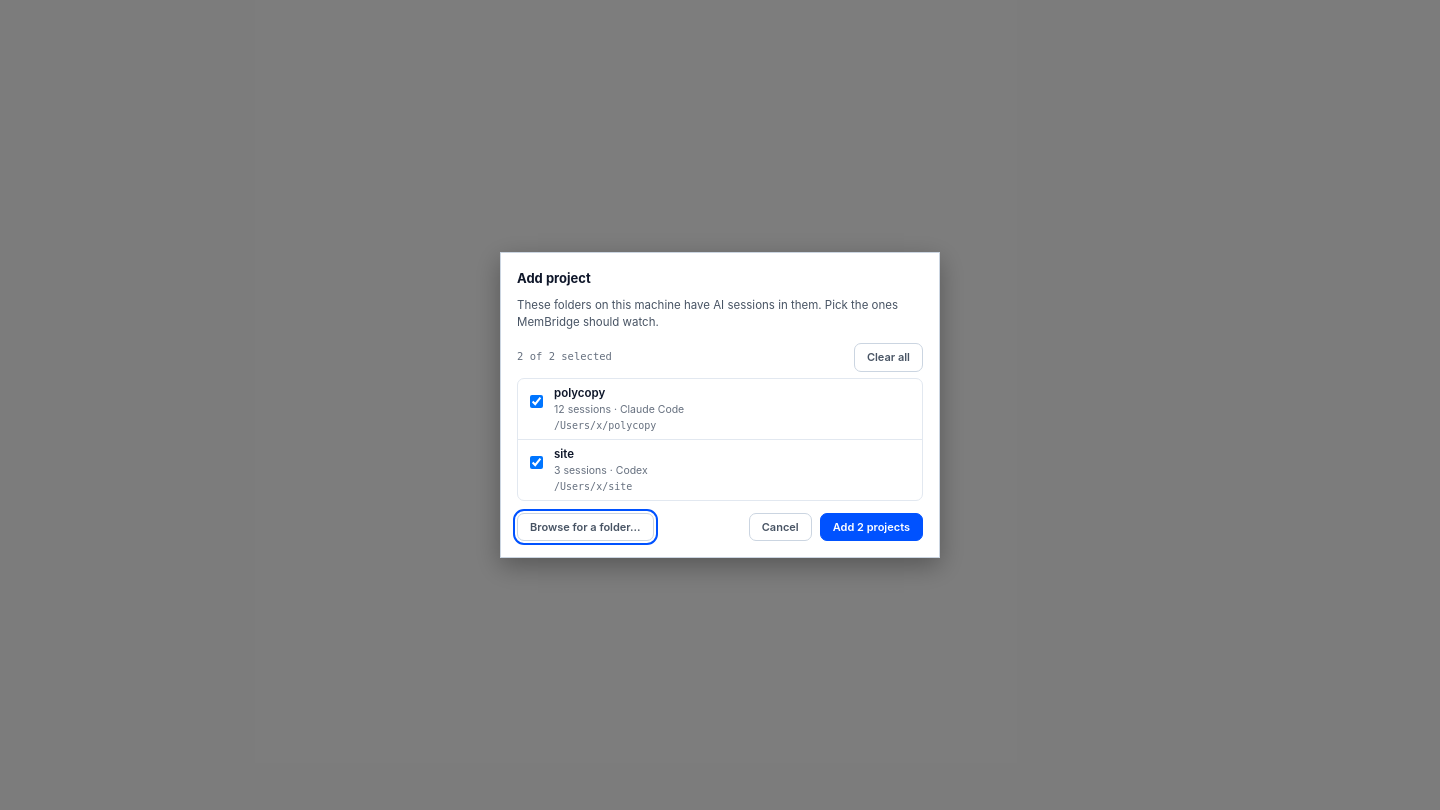
add project without ever typing a path › names the folders whose earlier memory was withheld so an empty block is explained
Click the button "Add 2 projects". click: [871, 527]
box: top-left (820, 512), bottom-right (923, 541)
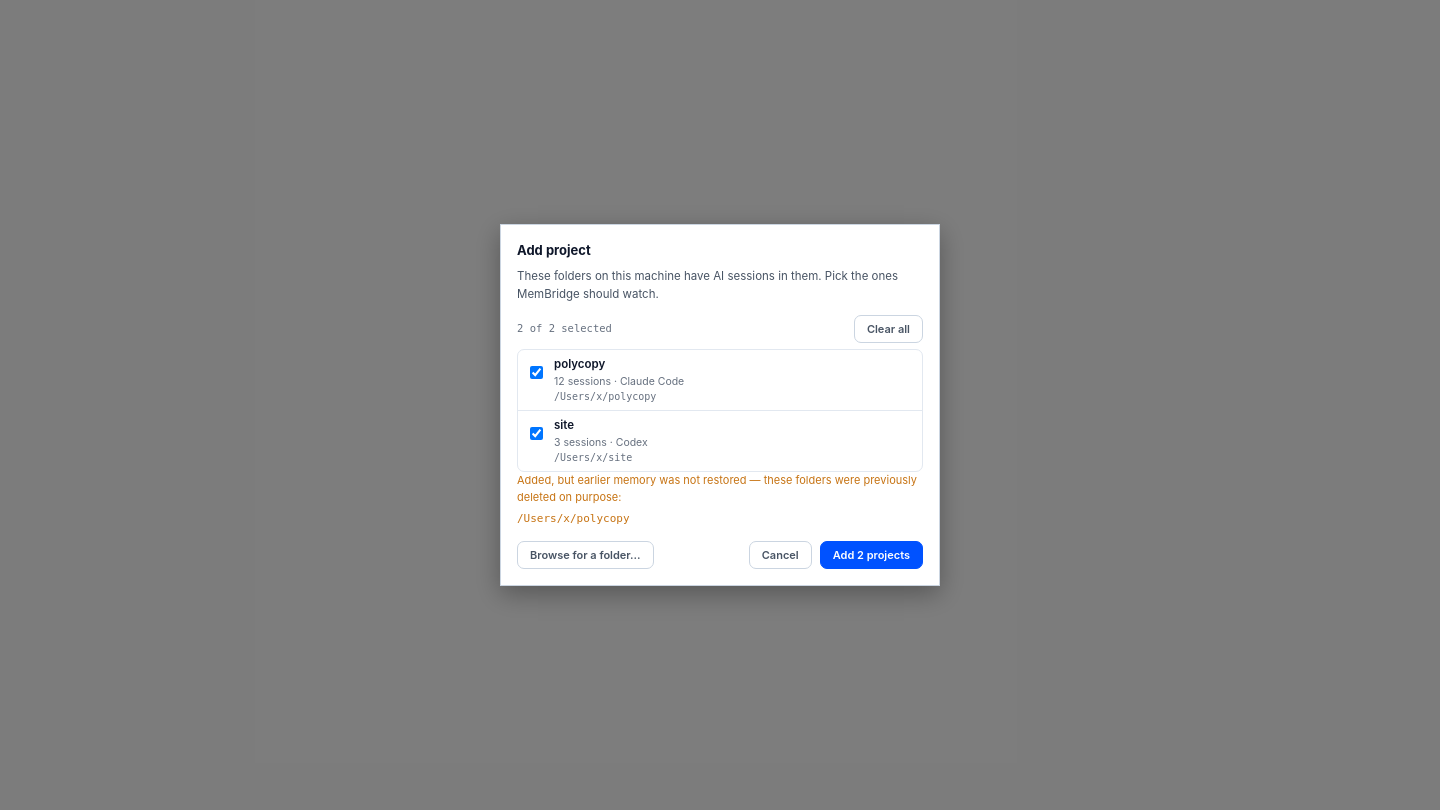
Check: the message does not show "/Users/x/site"
Check: the message shows "previously deleted", box top-left (517, 473), bottom-right (917, 504)
Check: the message shows "/Users/x/polycopy", box top-left (517, 512), bottom-right (630, 525)
